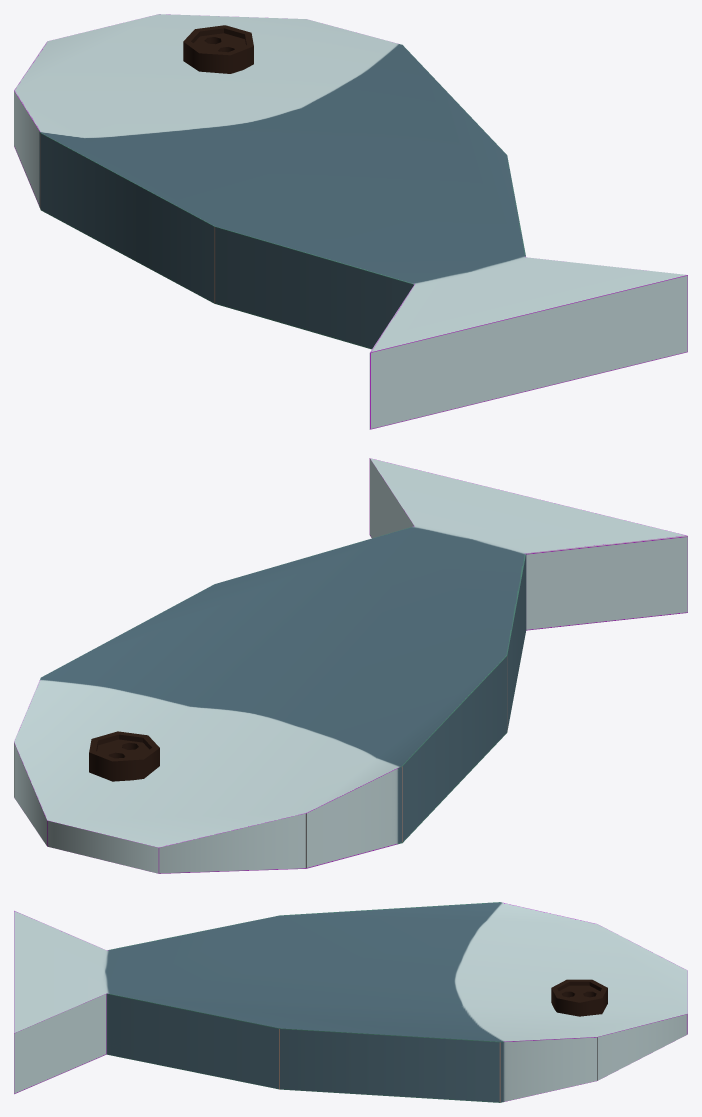
The model's file is Fish.fbx.
The picture shows the model from 3 angles, top to bottom: view 1: azimuth 30°, elevation 25°; view 2: azimuth 150°, elevation 25°; view 3: azimuth 270°, elevation 25°; orthographic projection. The views are drawn at different scales.
Parts seen in each view (by area): view 1: Cylinder001, Cylinder002; view 2: Cylinder001, Cylinder002; view 3: Cylinder001, Cylinder002.
Part boxes in pixels (<box>): Cylinder001: <box>14,14,687,429</box>; Cylinder002: <box>183,25,253,73</box>; Cylinder001: <box>14,458,687,873</box>; Cylinder002: <box>89,731,159,781</box>; Cylinder001: <box>14,902,687,1102</box>; Cylinder002: <box>551,979,607,1016</box>.
Size of the model in its own units: 6.98 by 1.61 by 14.22.
Materials: 2 (1 with a texture image).
